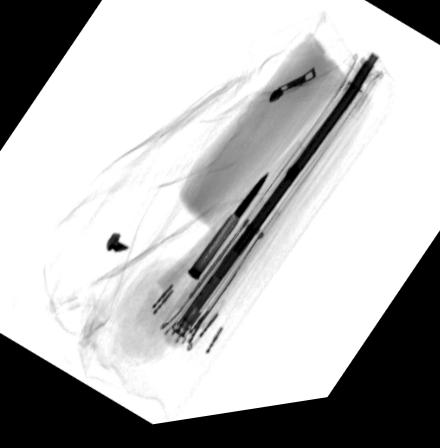Bullet: (184, 179, 269, 287)
